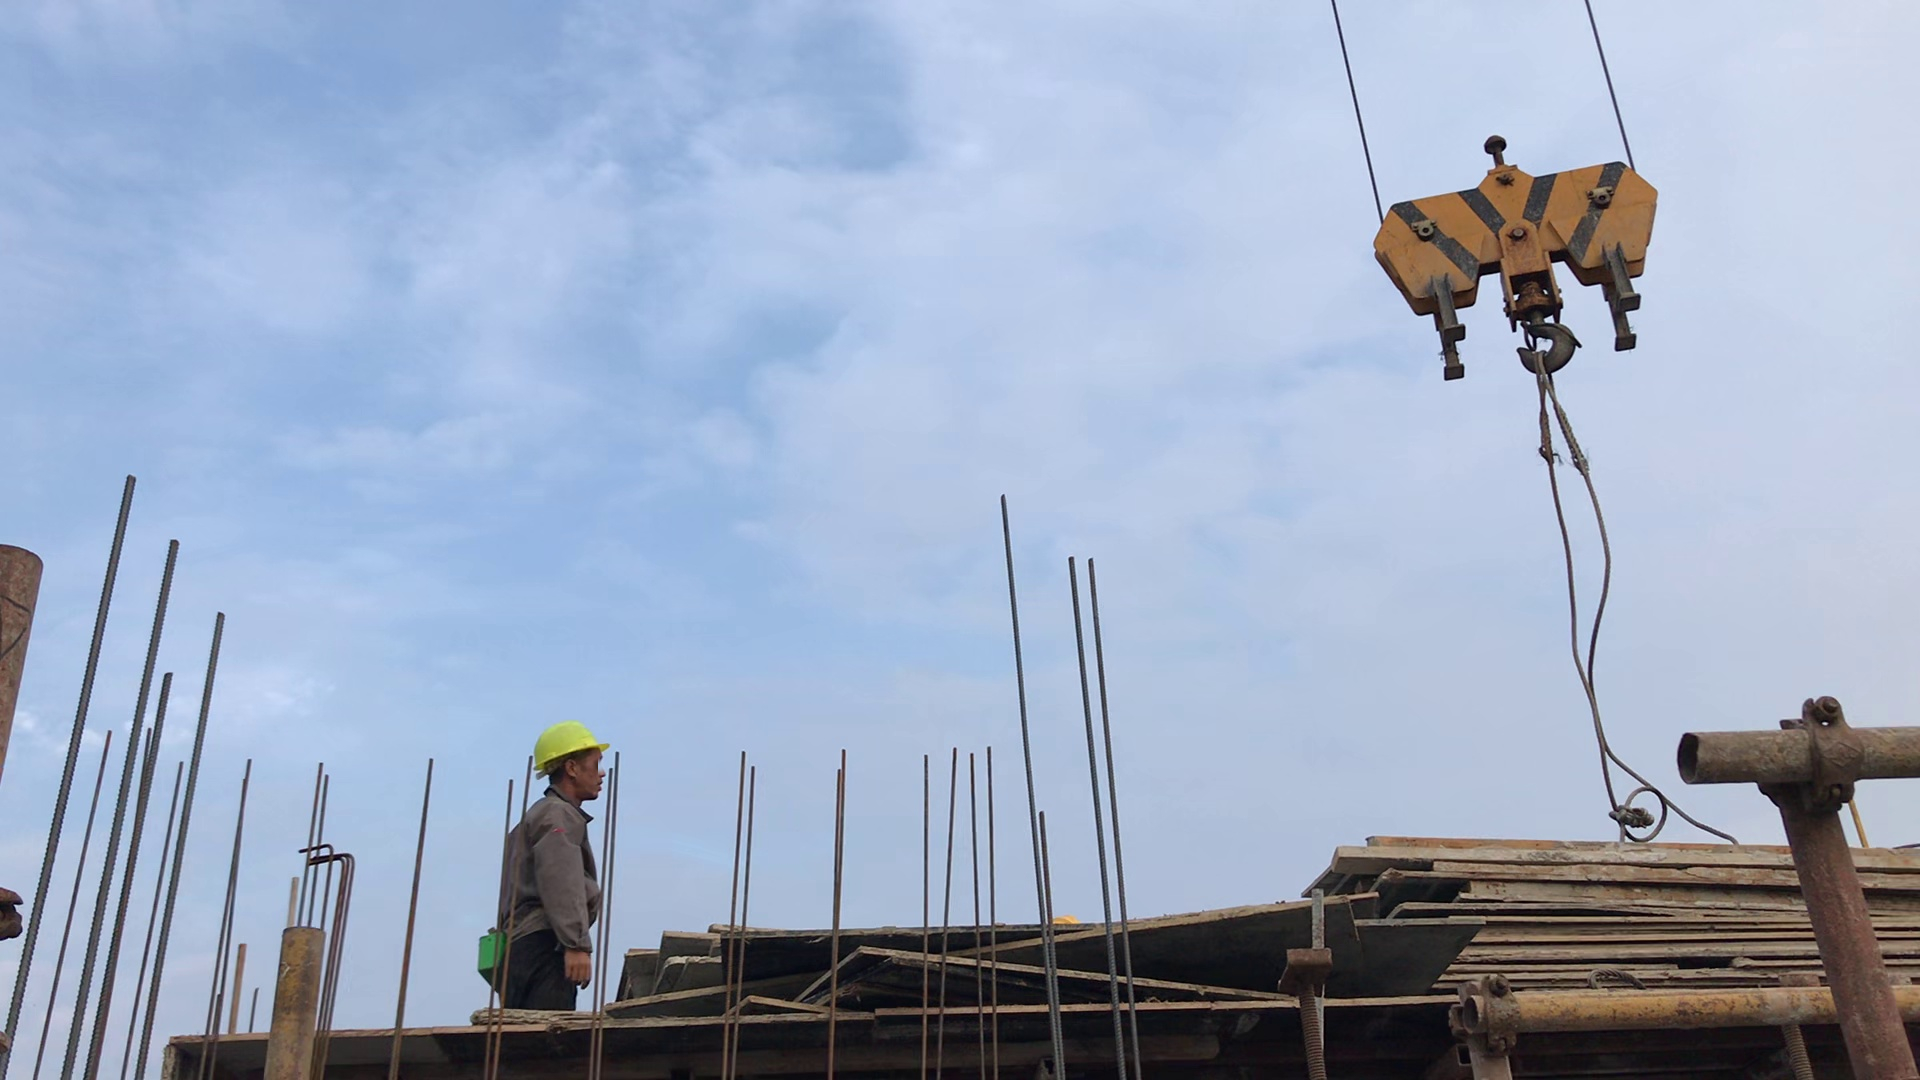board: (1316, 805, 1920, 993)
helmet: (523, 717, 611, 768)
hook: (1365, 109, 1679, 409)
person: (464, 701, 619, 1020)
